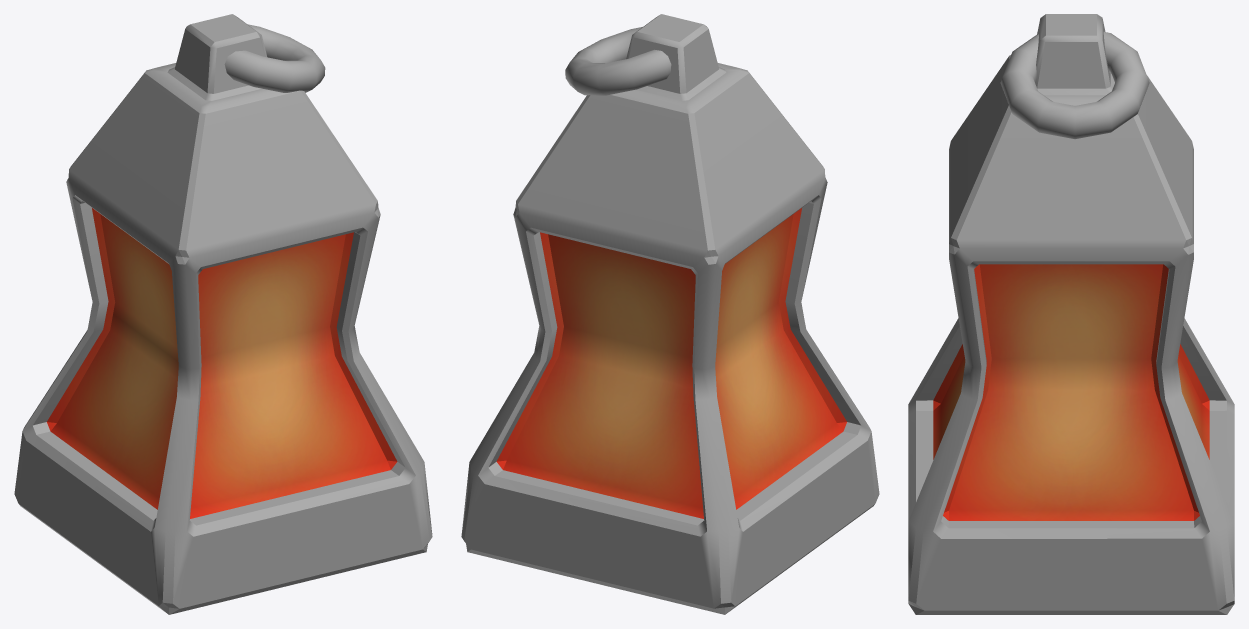
The model's file is LANTERNE.fbx.
The picture shows the model from 3 angles, left to right: view 1: azimuth 30°, elevation 25°; view 2: azimuth 150°, elevation 25°; view 3: azimuth 270°, elevation 25°; orthographic projection. The views are drawn at different scales.
Visible parts, largest first — view 1: LANTERNE; view 2: LANTERNE; view 3: LANTERNE.
Part boxes in pixels (x1=…): LANTERNE: x1=14, y1=14, x2=432, y2=614; LANTERNE: x1=461, y1=14, x2=879, y2=614; LANTERNE: x1=908, y1=14, x2=1234, y2=614.
Bounding box in the file's own units: 0.399 × 0.7079 × 0.399.
